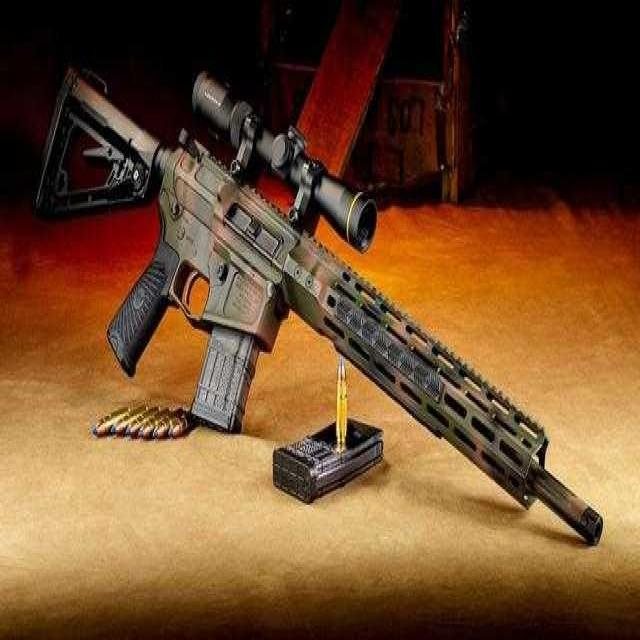weapon: (20, 32, 561, 540)
